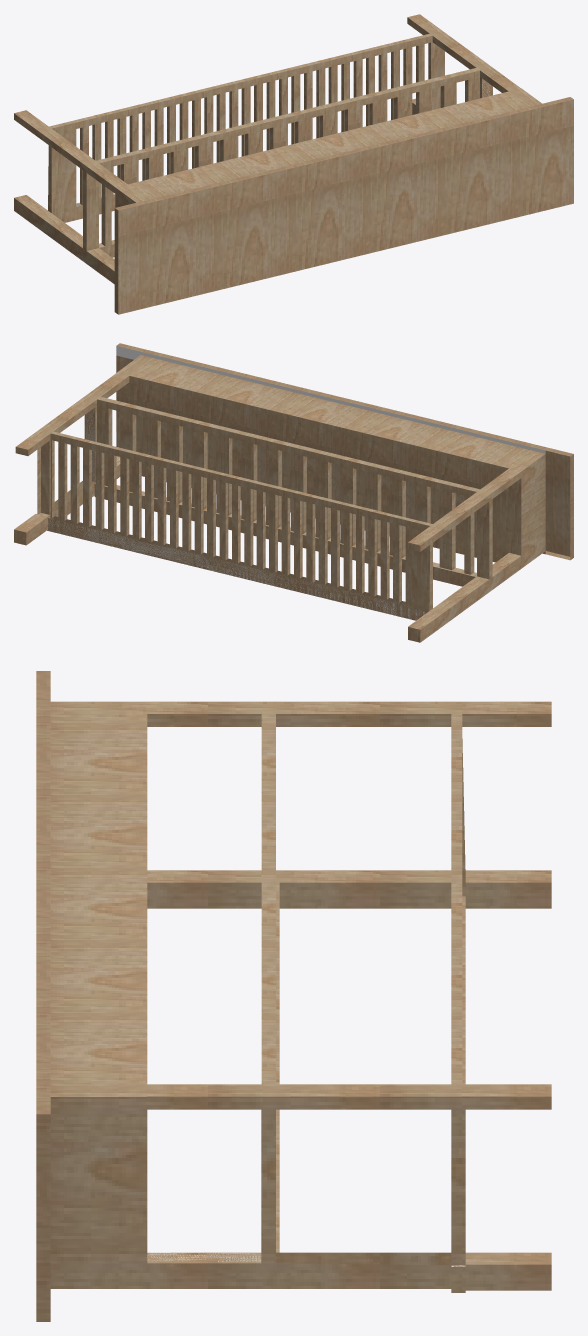
The picture shows the model from 3 angles, top to bottom: view 1: azimuth 30°, elevation 25°; view 2: azimuth 150°, elevation 25°; view 3: azimuth 270°, elevation 25°; orthographic projection. The views are drawn at different scales.
Size of the model in its own units: 1.36 by 0.2962 by 0.6664.
